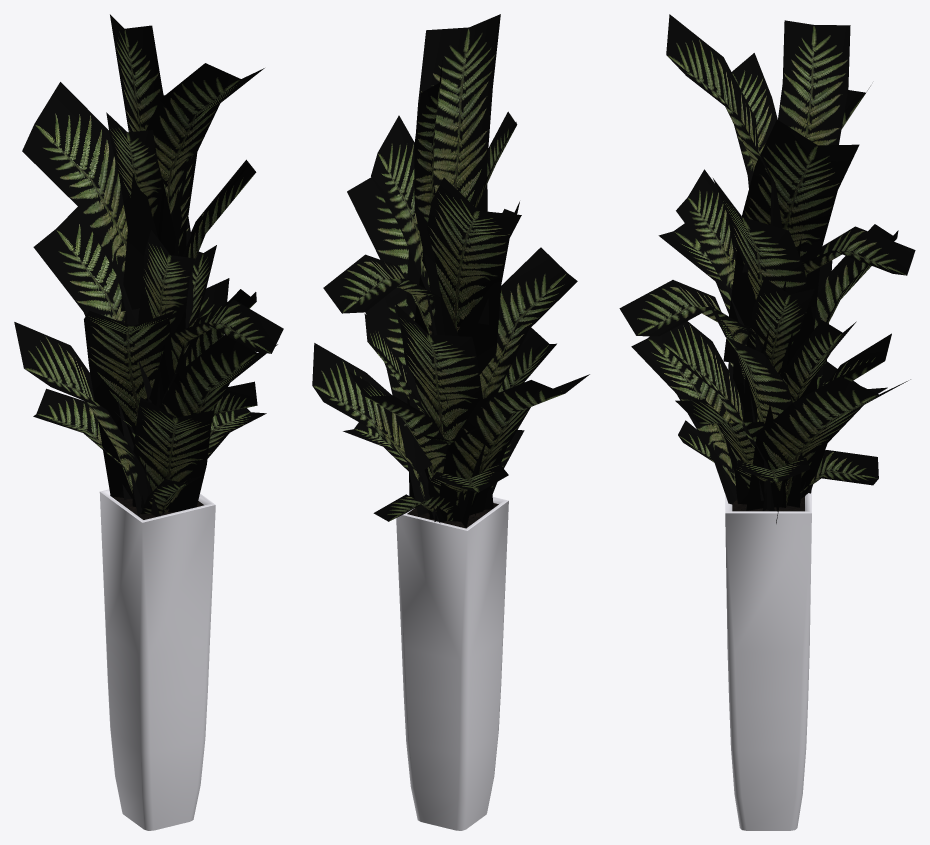
Rendered from p6_karma_pot_tall_fern_lod0.glb.
3 renders of one model, left to right at view 1: azimuth 30°, elevation 25°; view 2: azimuth 150°, elevation 25°; view 3: azimuth 270°, elevation 25°, orthographic. The views are drawn at different scales.
Visible parts, largest first — view 1: surf0, surf1; view 2: surf0, surf1; view 3: surf0, surf1.
Part boxes in pixels (left/top/right/bottom): surf0: left=14, top=14, right=283, bottom=516; surf1: left=99, top=489, right=215, bottom=830; surf0: left=312, top=14, right=589, bottom=528; surf1: left=396, top=497, right=508, bottom=830; surf0: left=619, top=14, right=915, bottom=523; surf1: left=725, top=489, right=811, bottom=830.
Size of the model in its own units: 36.25 by 118 by 39.35.
